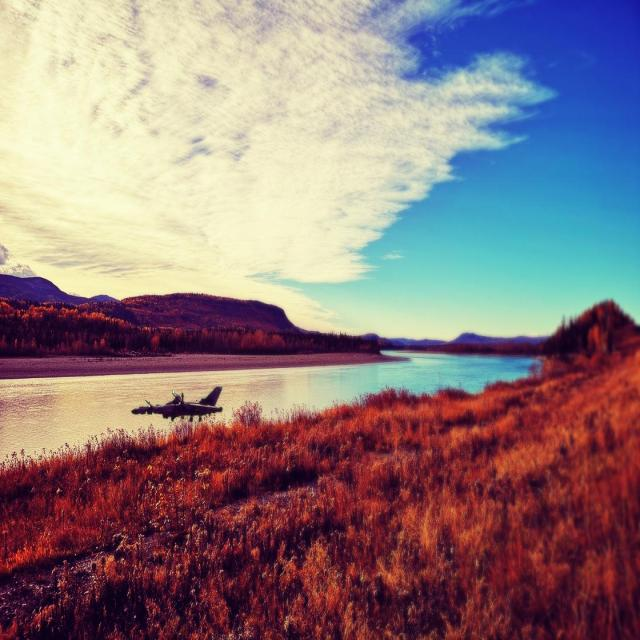airplane: (131, 385, 223, 422)
